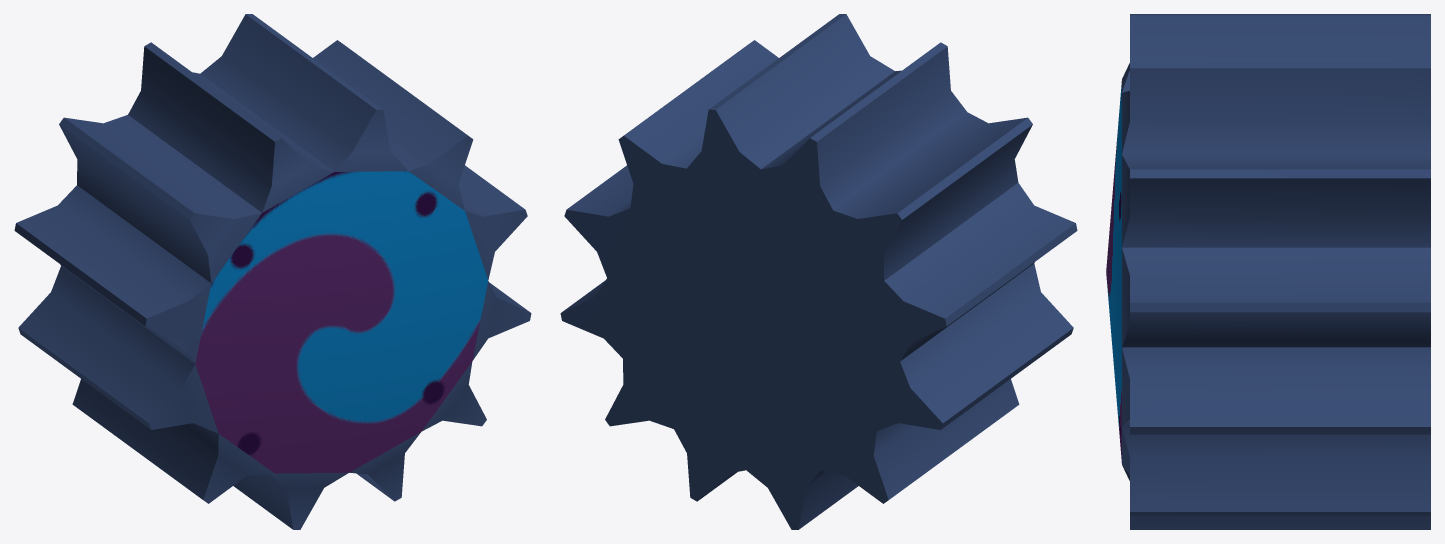
The model's file is SquggleWheel3_Base.fbx.
3 renders of one model, left to right at view 1: azimuth 30°, elevation 25°; view 2: azimuth 150°, elevation 25°; view 3: azimuth 270°, elevation 25°, orthographic. The views are drawn at different scales.
Visible parts, largest first — view 1: Wheel3; view 2: Wheel3; view 3: Wheel3.
Part boxes in pixels (box(x1,y1,x2,y2)): Wheel3: box(14, 14, 531, 529); Wheel3: box(560, 14, 1077, 529); Wheel3: box(1106, 14, 1430, 529).
Size of the model in its own units: 11.06 by 10.99 by 7.
